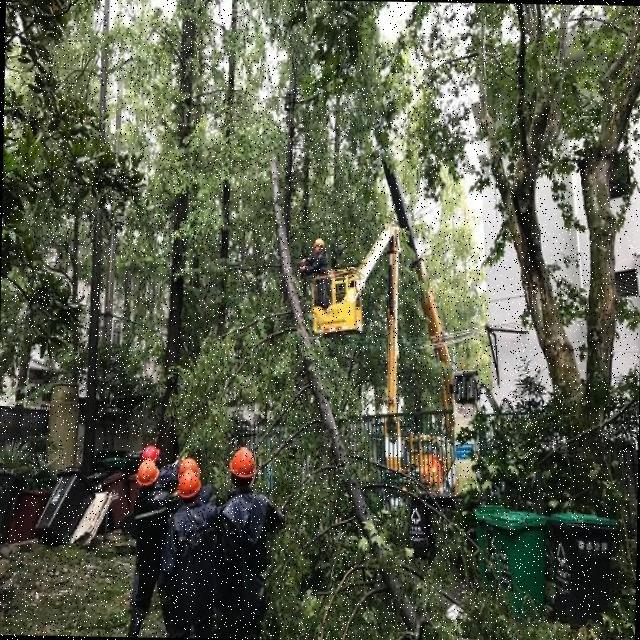fallen_object: (197, 134, 426, 630)
